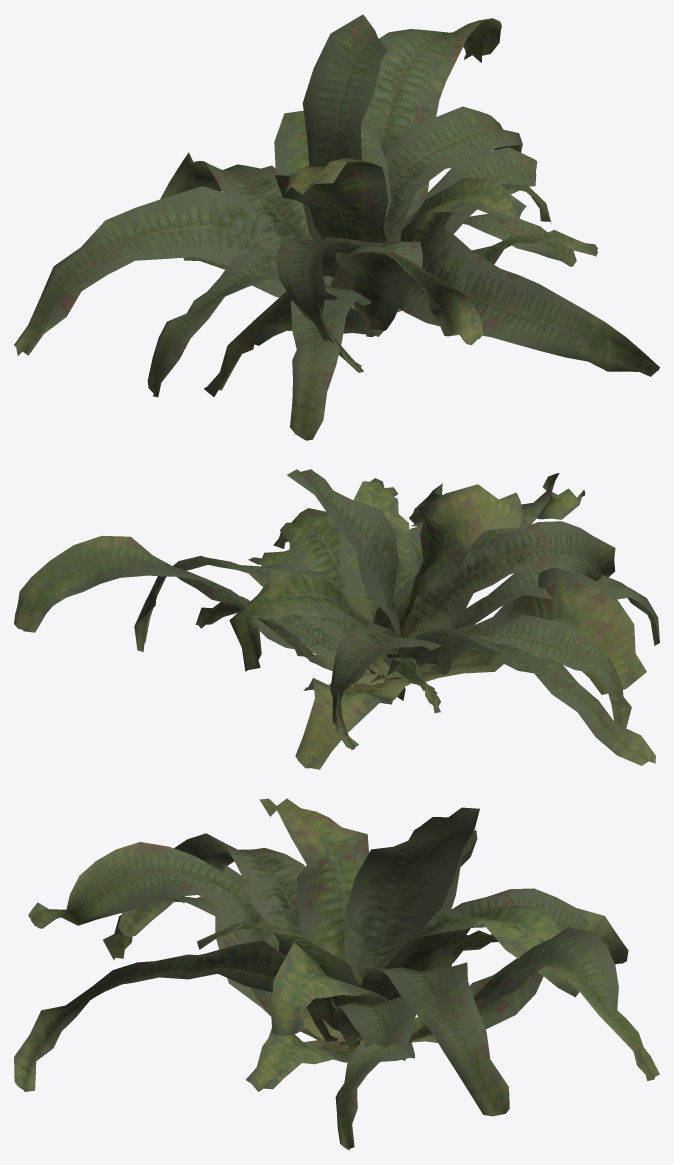
File: grounded-fern-weathered.glb
The picture shows the model from 3 angles, top to bottom: view 1: azimuth 30°, elevation 25°; view 2: azimuth 150°, elevation 25°; view 3: azimuth 270°, elevation 25°; orthographic projection. The views are drawn at different scales.
Visible parts, largest first — view 1: grounded-fern-weathered runtime mesh; view 2: grounded-fern-weathered runtime mesh; view 3: grounded-fern-weathered runtime mesh.
Boxes of the visible parts, x1=… form: grounded-fern-weathered runtime mesh: x1=14, y1=14, x2=659, y2=440; grounded-fern-weathered runtime mesh: x1=14, y1=469, x2=659, y2=769; grounded-fern-weathered runtime mesh: x1=14, y1=798, x2=659, y2=1150.
Bounding box in the file's own units: 1.1 × 0.4753 × 0.9932.
1 material, 1 textured.
